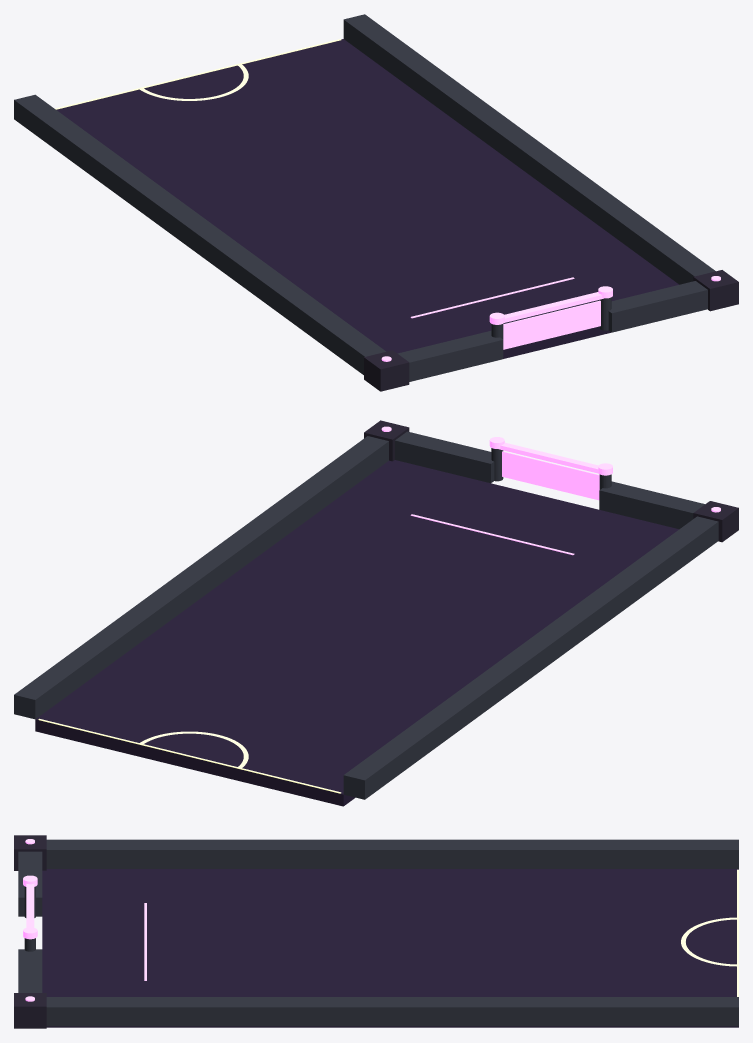
File: mesa_gravity_volley_half_p1.glb
3 views of the same model, one above another, from view 1: azimuth 30°, elevation 25°; view 2: azimuth 150°, elevation 25°; view 3: azimuth 270°, elevation 25° (orthographic). The views are drawn at different scales.
Visible parts, largest first — view 1: VolleyHalfP1_Surface, VolleyHalfP1_RailL, VolleyHalfP1_RailR, Cube.004, Cube.002, Cube.009, Cube.006, Cube.007, Cube.008, VolleyHalfP1_TopEdgeLaser; view 2: VolleyHalfP1_Surface, VolleyHalfP1_RailL, VolleyHalfP1_RailR, Cube.004, Cube.002, Cube.009, Cube.006, Cube.008, Cube.007, VolleyHalfP1_TopEdgeLaser; view 3: VolleyHalfP1_Surface, VolleyHalfP1_RailL, VolleyHalfP1_RailR, Cube.002, Cube.007, Cube.004, Cube.006, VolleyHalfP1_CenterArcOuter, Cube.008.
Part boxes in pixels (x1=…): VolleyHalfP1_Surface: x1=56, y1=39, x2=678, y2=358; VolleyHalfP1_RailL: x1=14, y1=94, x2=385, y2=374; VolleyHalfP1_RailR: x1=343, y1=14, x2=715, y2=284; Cube.004: x1=608, y1=281, x2=707, y2=332; Cube.002: x1=397, y1=331, x2=503, y2=381; Cube.009: x1=503, y1=300, x2=600, y2=349; Cube.006: x1=364, y1=350, x2=409, y2=391; Cube.007: x1=693, y1=270, x2=738, y2=311; Cube.008: x1=504, y1=292, x2=603, y2=322; VolleyHalfP1_TopEdgeLaser: x1=55, y1=39, x2=341, y2=109; VolleyHalfP1_Surface: x1=35, y1=460, x2=678, y2=806; VolleyHalfP1_RailL: x1=343, y1=516, x2=718, y2=799; VolleyHalfP1_RailR: x1=14, y1=436, x2=388, y2=719; Cube.004: x1=395, y1=431, x2=494, y2=483; Cube.002: x1=599, y1=481, x2=704, y2=529; Cube.009: x1=502, y1=451, x2=599, y2=500; Cube.006: x1=693, y1=501, x2=738, y2=542; Cube.008: x1=499, y1=442, x2=598, y2=473; Cube.007: x1=364, y1=420, x2=409, y2=461; VolleyHalfP1_TopEdgeLaser: x1=38, y1=718, x2=341, y2=793; VolleyHalfP1_Surface: x1=42, y1=869, x2=738, y2=1027; VolleyHalfP1_RailL: x1=46, y1=839, x2=738, y2=868; VolleyHalfP1_RailR: x1=46, y1=997, x2=738, y2=1026; Cube.002: x1=18, y1=851, x2=42, y2=916; Cube.007: x1=14, y1=993, x2=46, y2=1028; Cube.004: x1=18, y1=949, x2=42, y2=992; Cube.006: x1=14, y1=835, x2=46, y2=870; VolleyHalfP1_CenterArcOuter: x1=681, y1=917, x2=736, y2=966; Cube.008: x1=26, y1=884, x2=34, y2=927.
Bounding box in the file's own units: 1.26 × 0.17 × 2.25.
